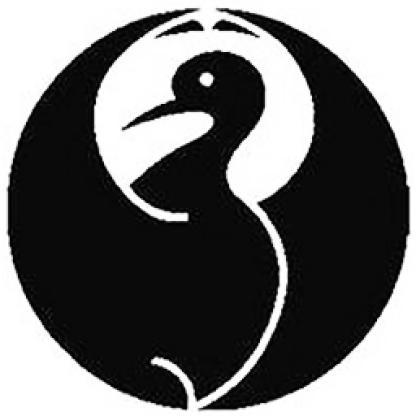kamon: (7, 5, 414, 414)
